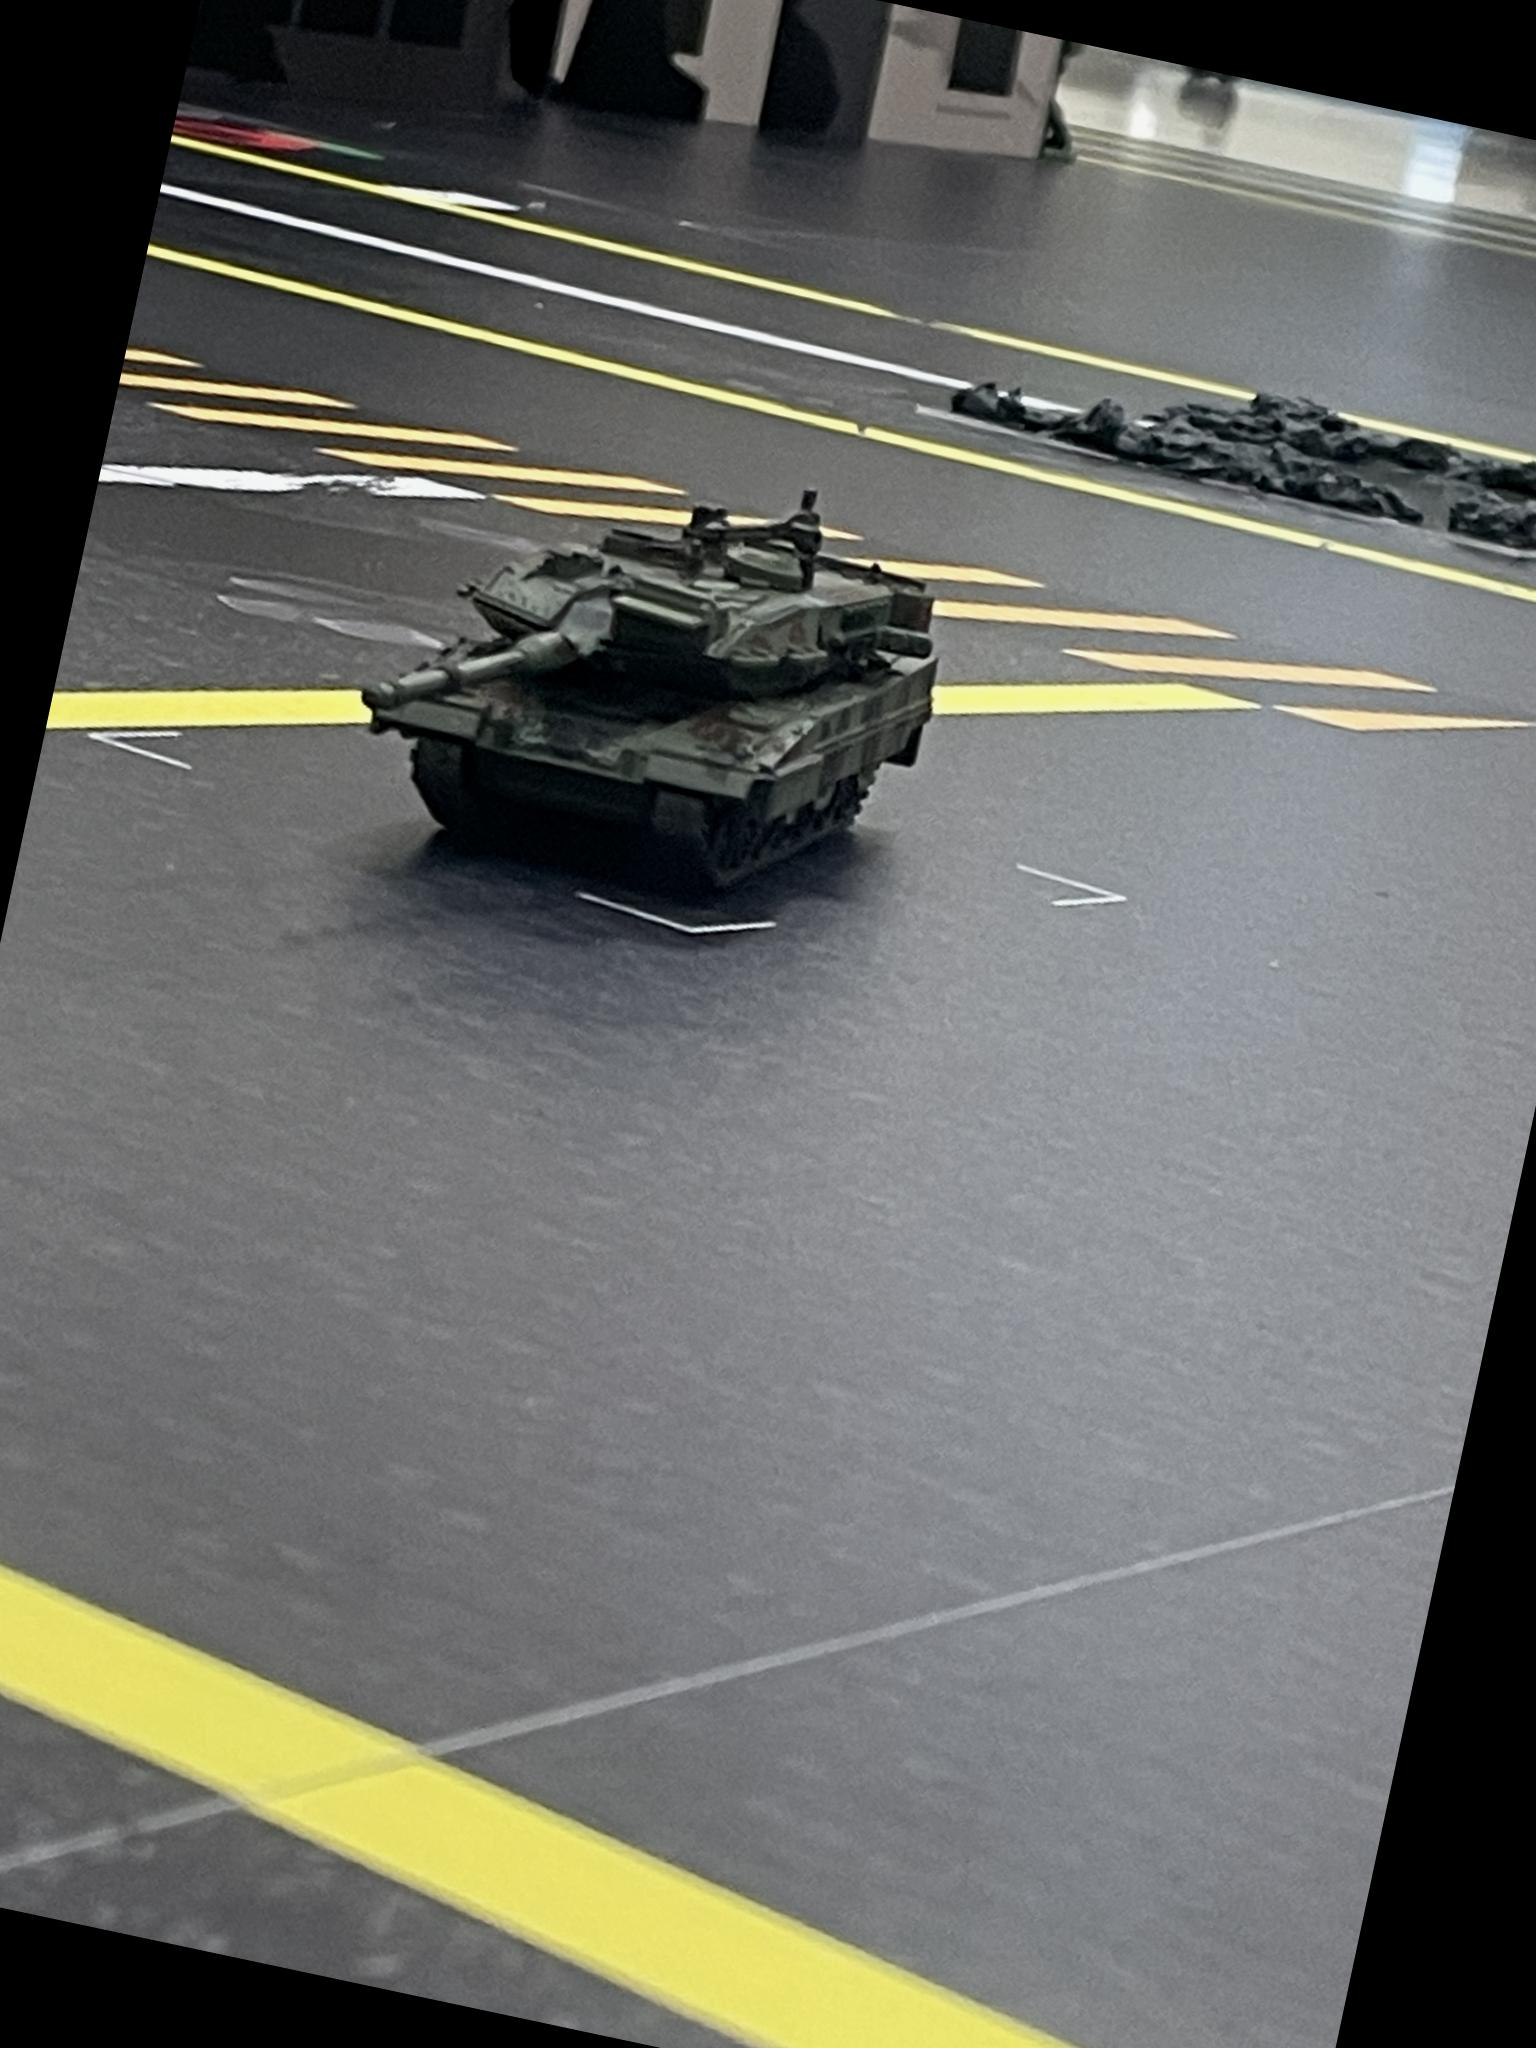Tank: (321, 411, 975, 935)
